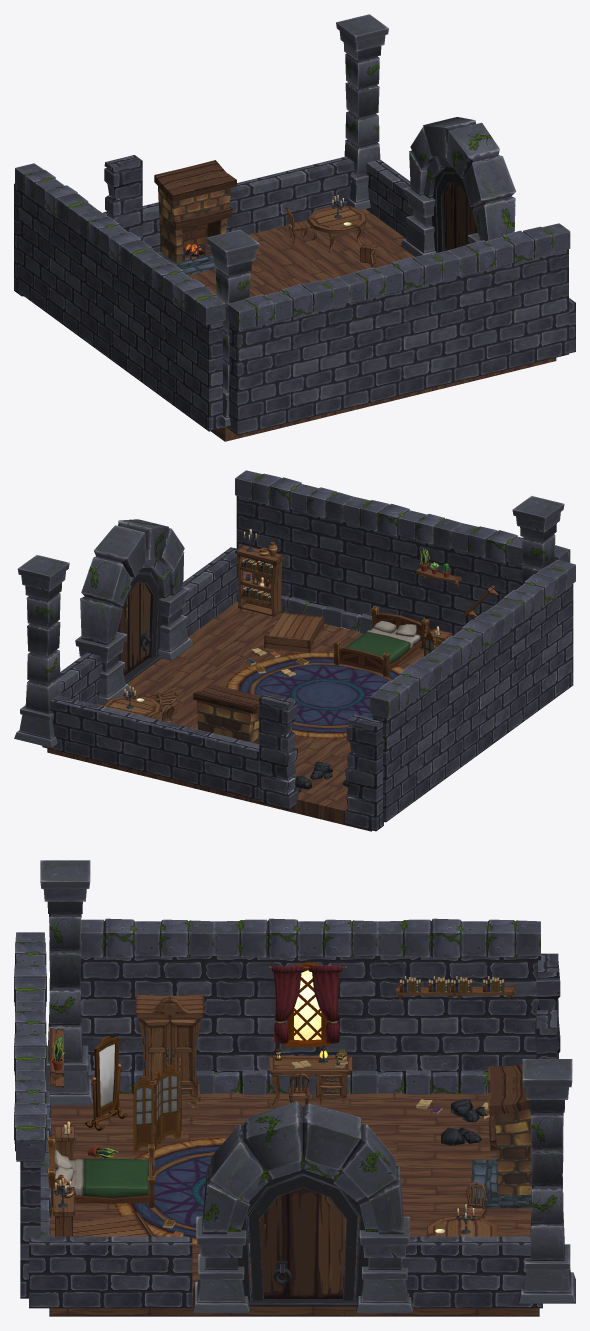
File: LyrielRoom.gltf
3 views of the same model, one above another, from view 1: azimuth 30°, elevation 25°; view 2: azimuth 150°, elevation 25°; view 3: azimuth 270°, elevation 25° (orthographic). The views are drawn at different scales.
Parts seen in each view (by area): view 1: P_MOD_Floor_02_E_straight_med (4); view 2: P_MOD_Floor_02_E_straight_med (4); view 3: P_MOD_Floor_02_E_straight_med (4).
Boxes of the visible parts, x1=… form: P_MOD_Floor_02_E_straight_med (4): x1=14, y1=14, x2=575, y2=441; P_MOD_Floor_02_E_straight_med (4): x1=14, y1=470, x2=575, y2=831; P_MOD_Floor_02_E_straight_med (4): x1=14, y1=860, x2=575, y2=1316.
Size of the model in its own units: 13.6 by 6.68 by 13.75.
18 materials, 18 textured.
